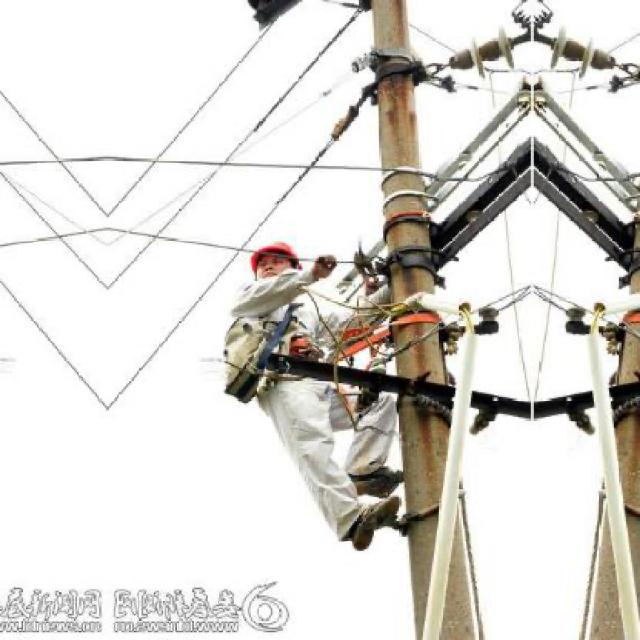helmet: (238, 232, 304, 290)
